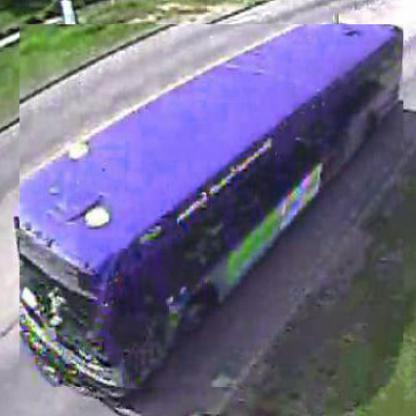bus: (20, 26, 405, 390)
